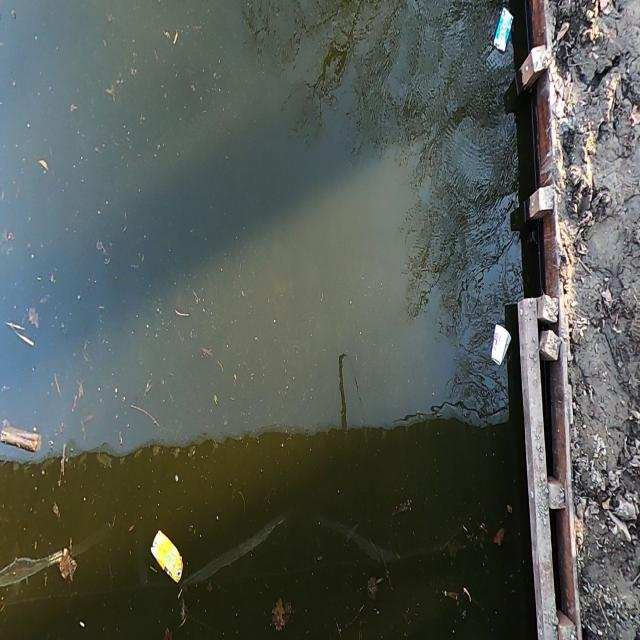Non plastique: (150, 526, 190, 588), (488, 324, 516, 377), (493, 2, 514, 57)
